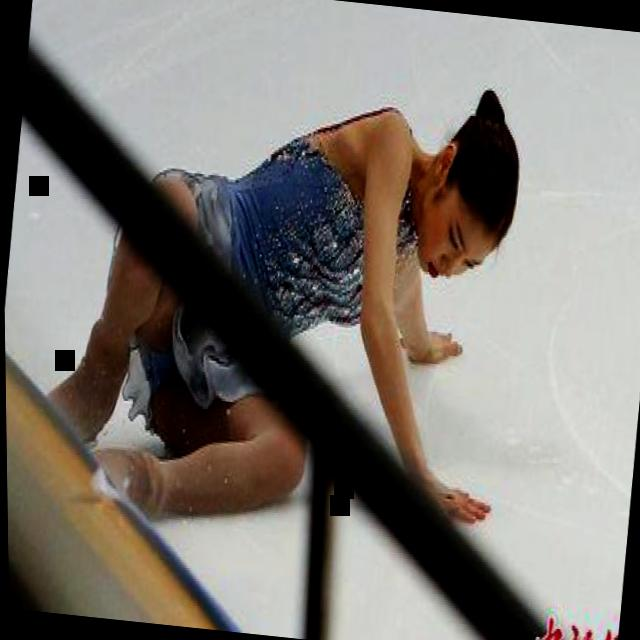Fall-Detected: (0, 0, 554, 602)
